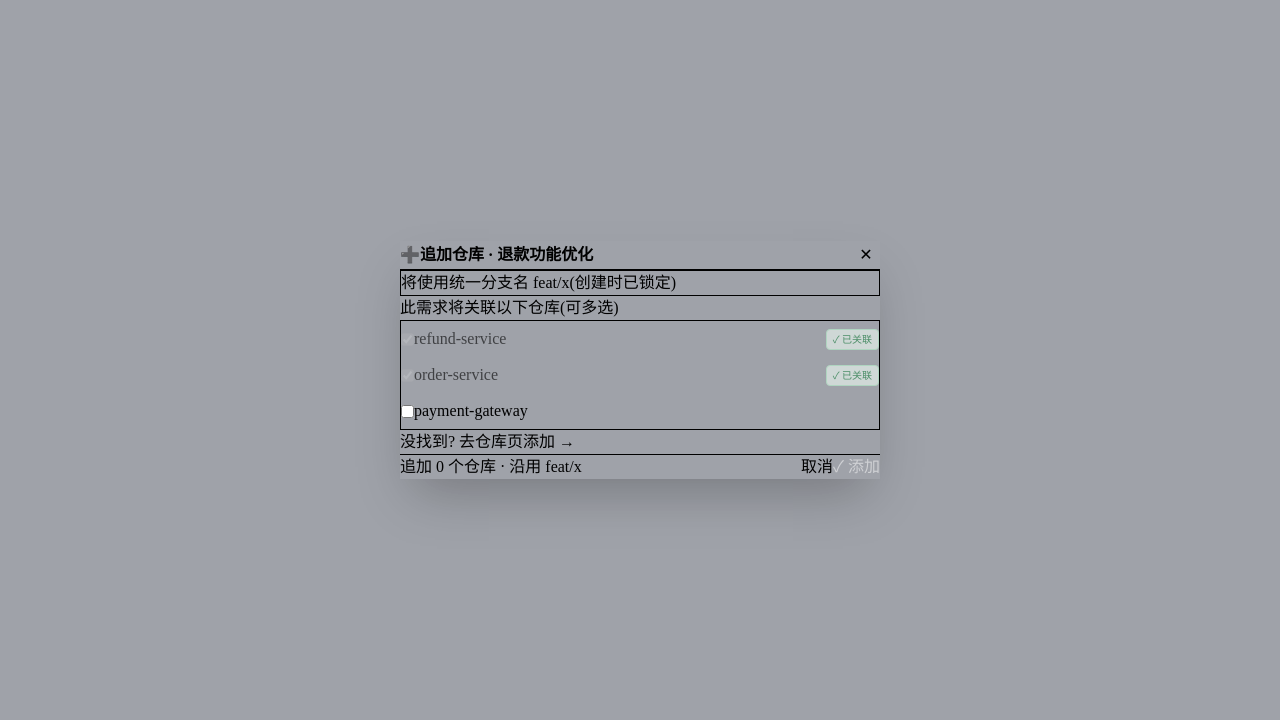
AttachReposDialog · 增量追加(ADR-0033) › append + 已关联 2 + 勾选 1 新 → footer "追加 1 个仓库"
Click the label with test id "attach-repos-dialog-repo-option" showing "payment-gateway": (464, 410) top-left (401, 402), bottom-right (528, 419)
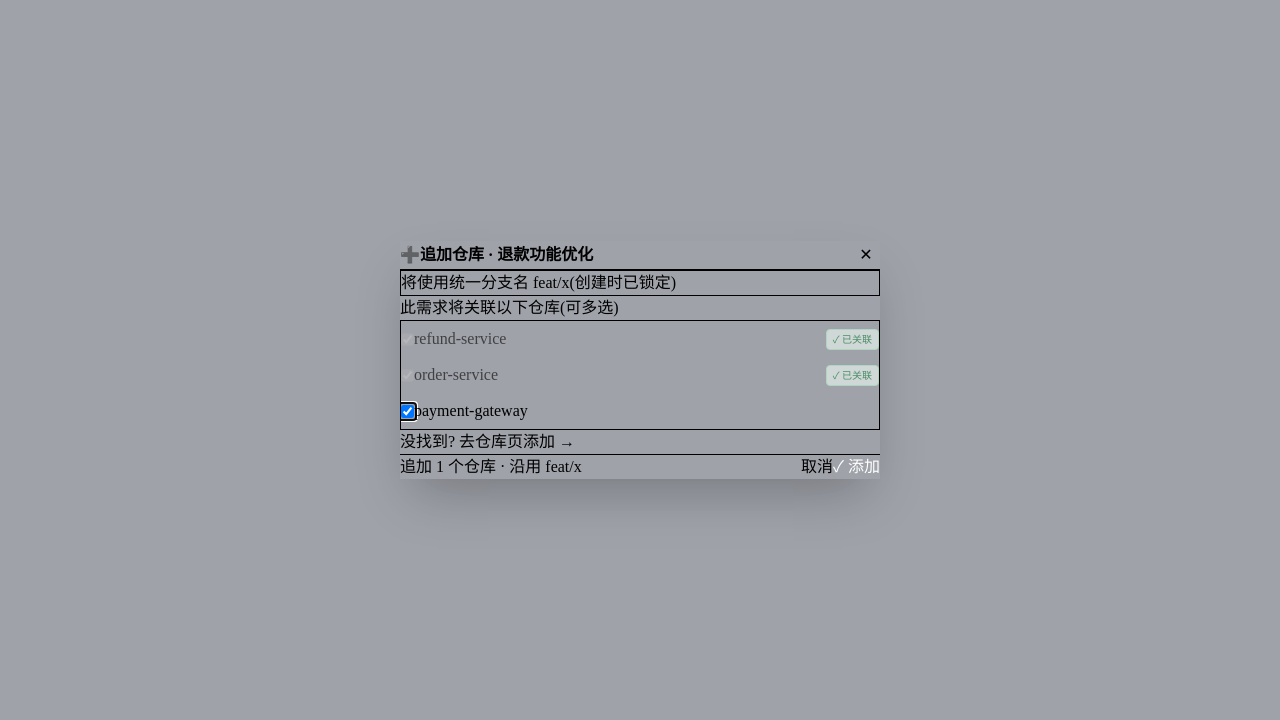
Now the text with test id "attach-repos-dialog-footer-left" shows "追加 1 个仓库", box top-left (400, 458), bottom-right (582, 475)
